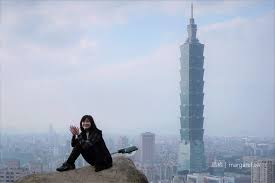people: (56, 115, 115, 172)
